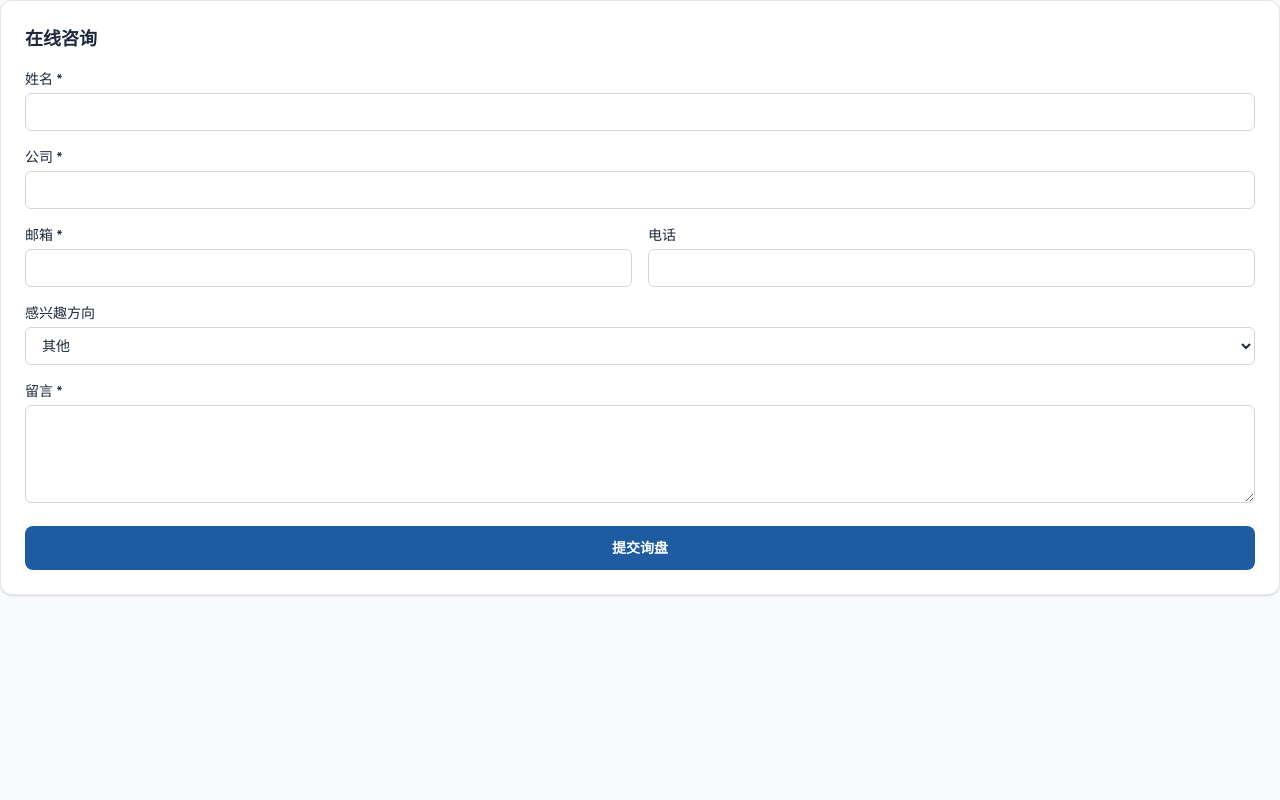
Test case: InquiryForm › shows error state on failed submission
The width and height of the screenshot is (1280, 800).
In the field labelled "姓名 *": (640,112) [25,93,1255,131], type "X"
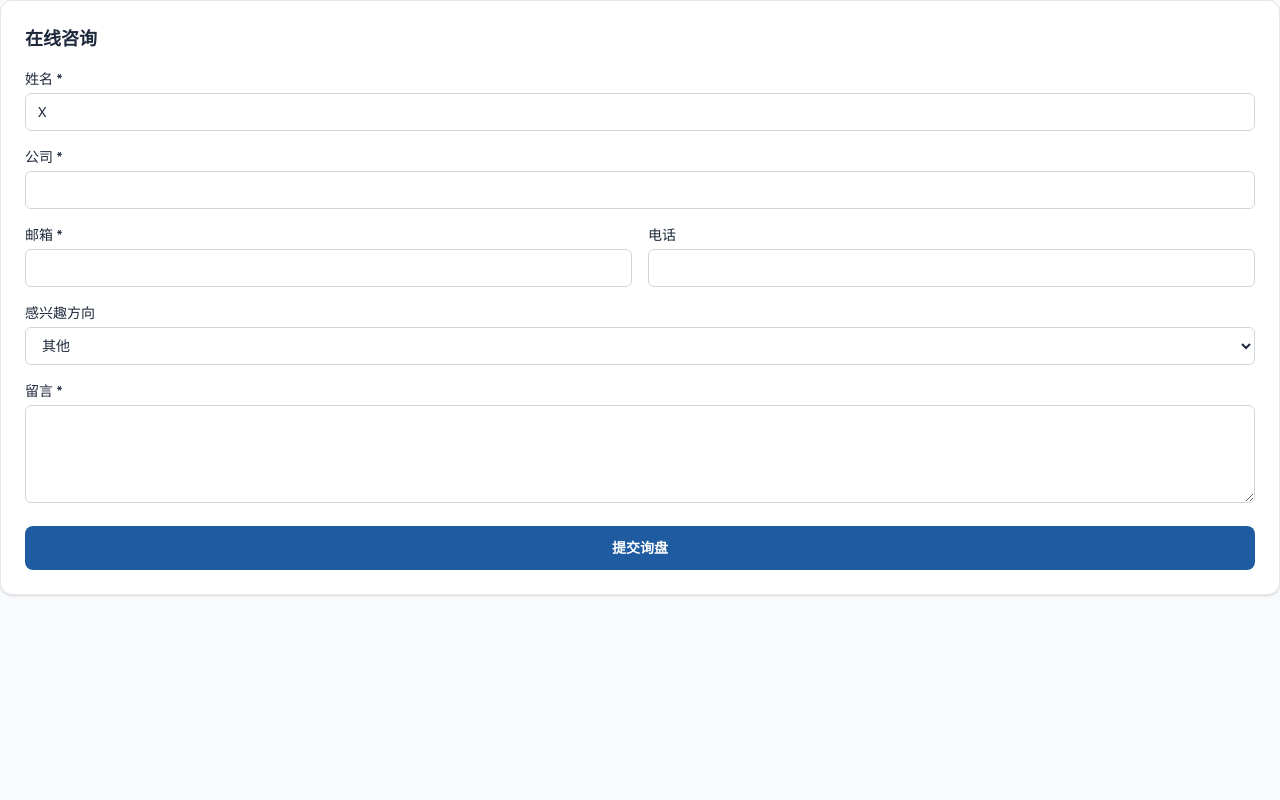
In the field labelled "公司 *": (640,190) [25,171,1255,209], type "Y"
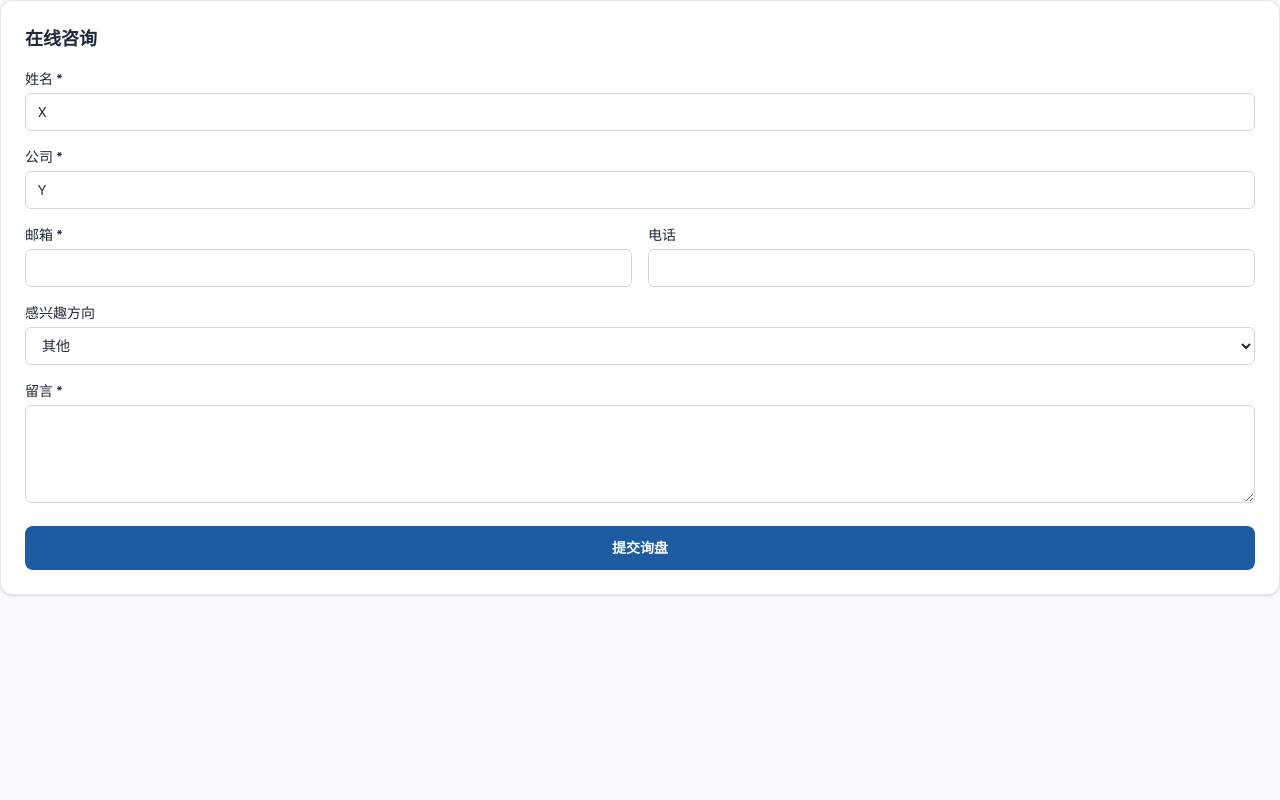
In the field labelled "邮箱 *": (328,268) [25,249,632,287], type "x@y.com"
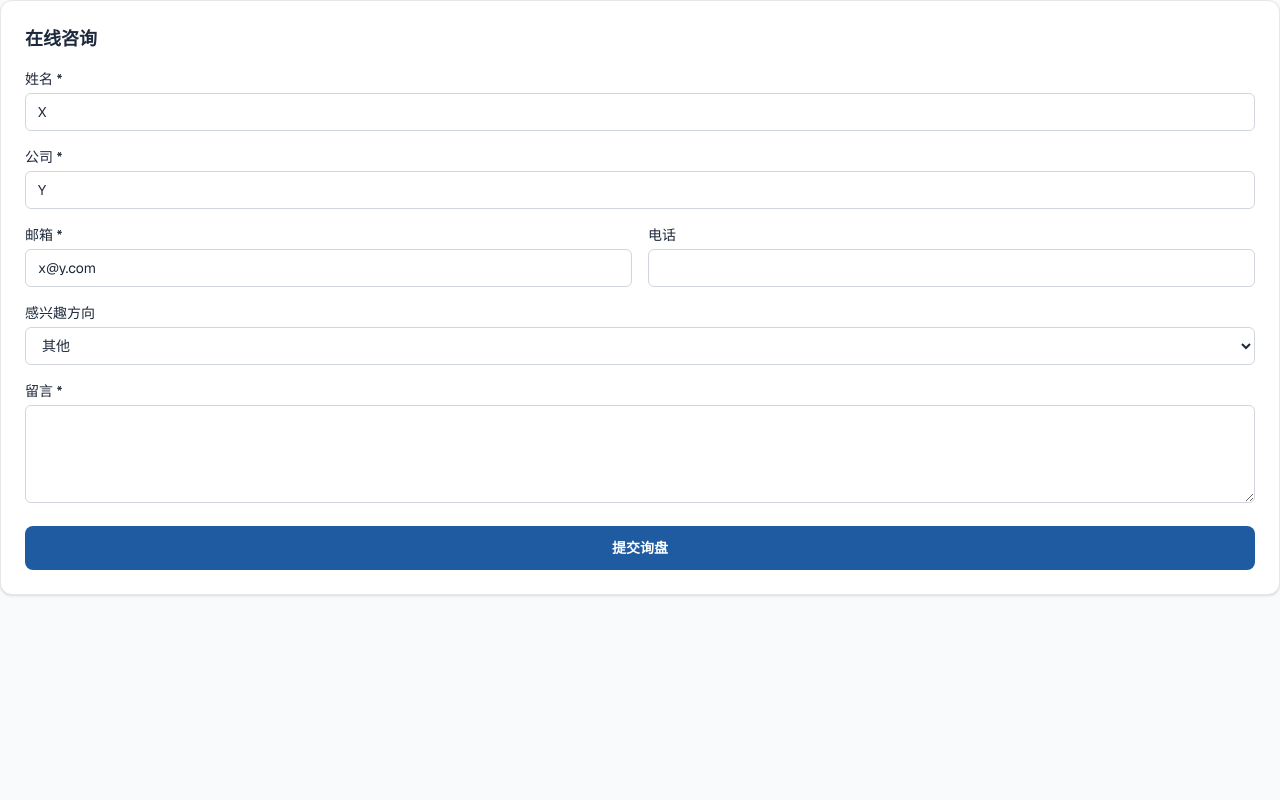
In the text box labelled "留言 *": (640,454) [25,405,1255,503], type "msg"
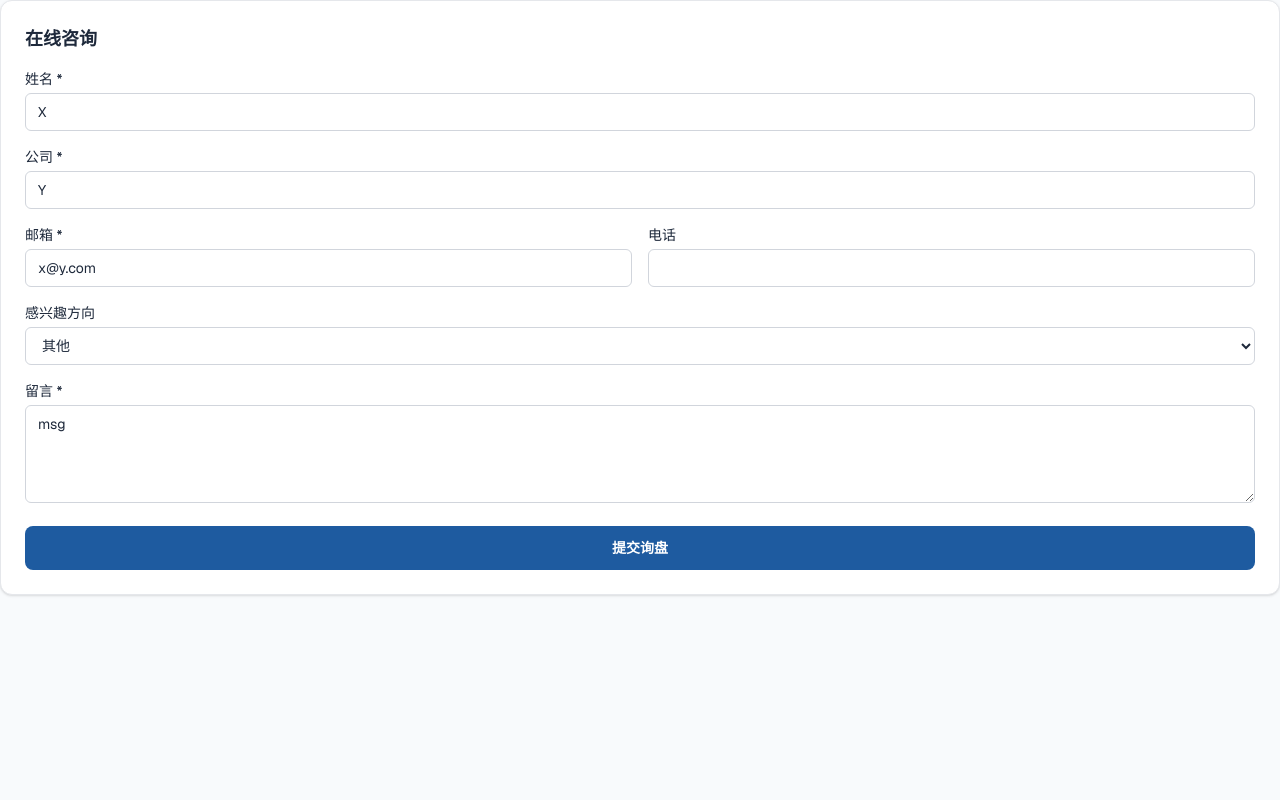
Click the button "提交询盘": (640,548) [25,526,1255,570]
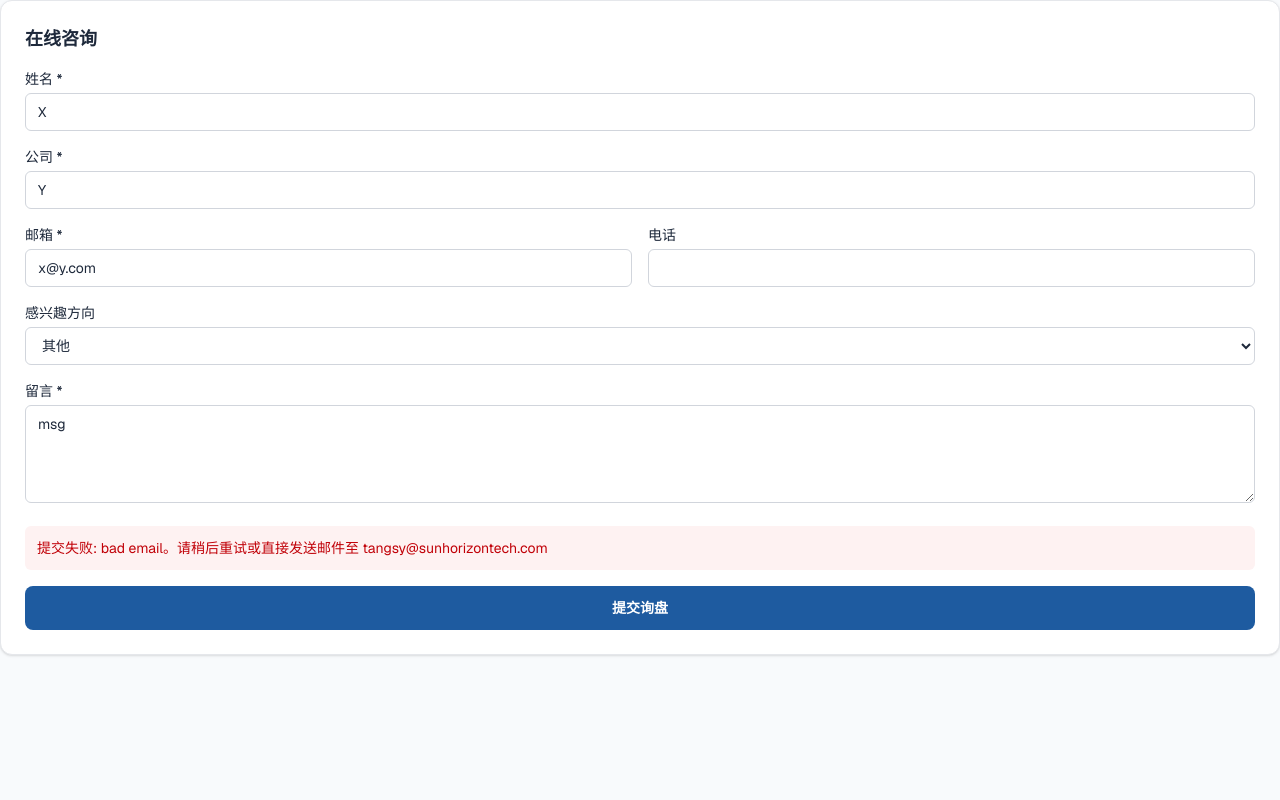
Check: the text "提交失败: bad email。请稍后重试或直接发送邮件至 tangsy@sunhorizontech.com" is shown, box [25,526,1255,570]
